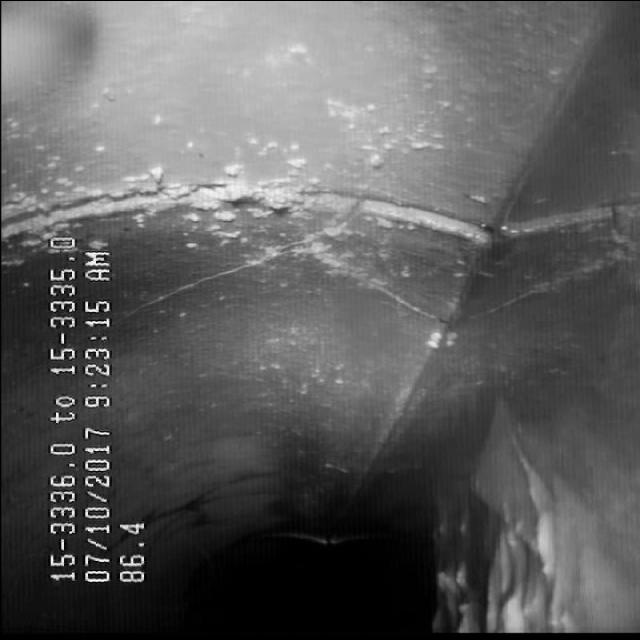Crack: (162, 166, 422, 320)
